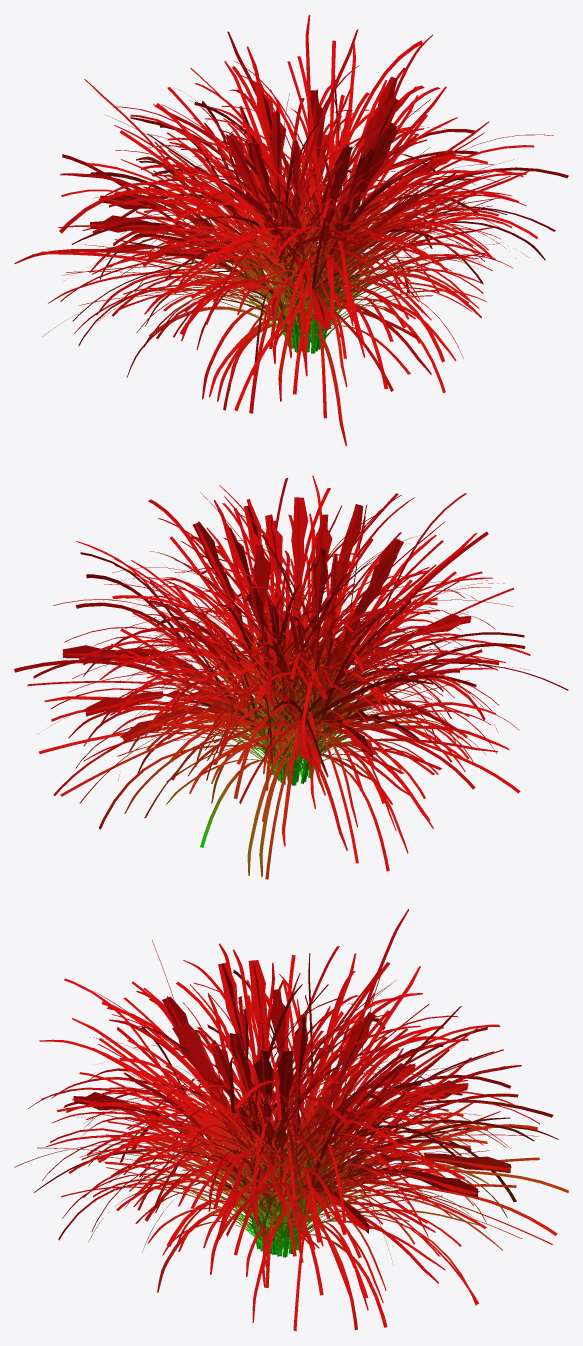
File: Grass_B_Var5.FBX
3 renders of one model, top to bottom at view 1: azimuth 30°, elevation 25°; view 2: azimuth 150°, elevation 25°; view 3: azimuth 270°, elevation 25°, orthographic. The views are drawn at different scales.
Parts seen in each view (by area): view 1: Grass_B_Var5_LOD0; view 2: Grass_B_Var5_LOD0; view 3: Grass_B_Var5_LOD0.
Part boxes in pixels (bbox=[...]): Grass_B_Var5_LOD0: bbox=[14, 14, 568, 446]; Grass_B_Var5_LOD0: bbox=[14, 475, 568, 879]; Grass_B_Var5_LOD0: bbox=[14, 909, 568, 1331].
Size of what is drawn, in the model's own units: 127 by 74.72 by 119.
